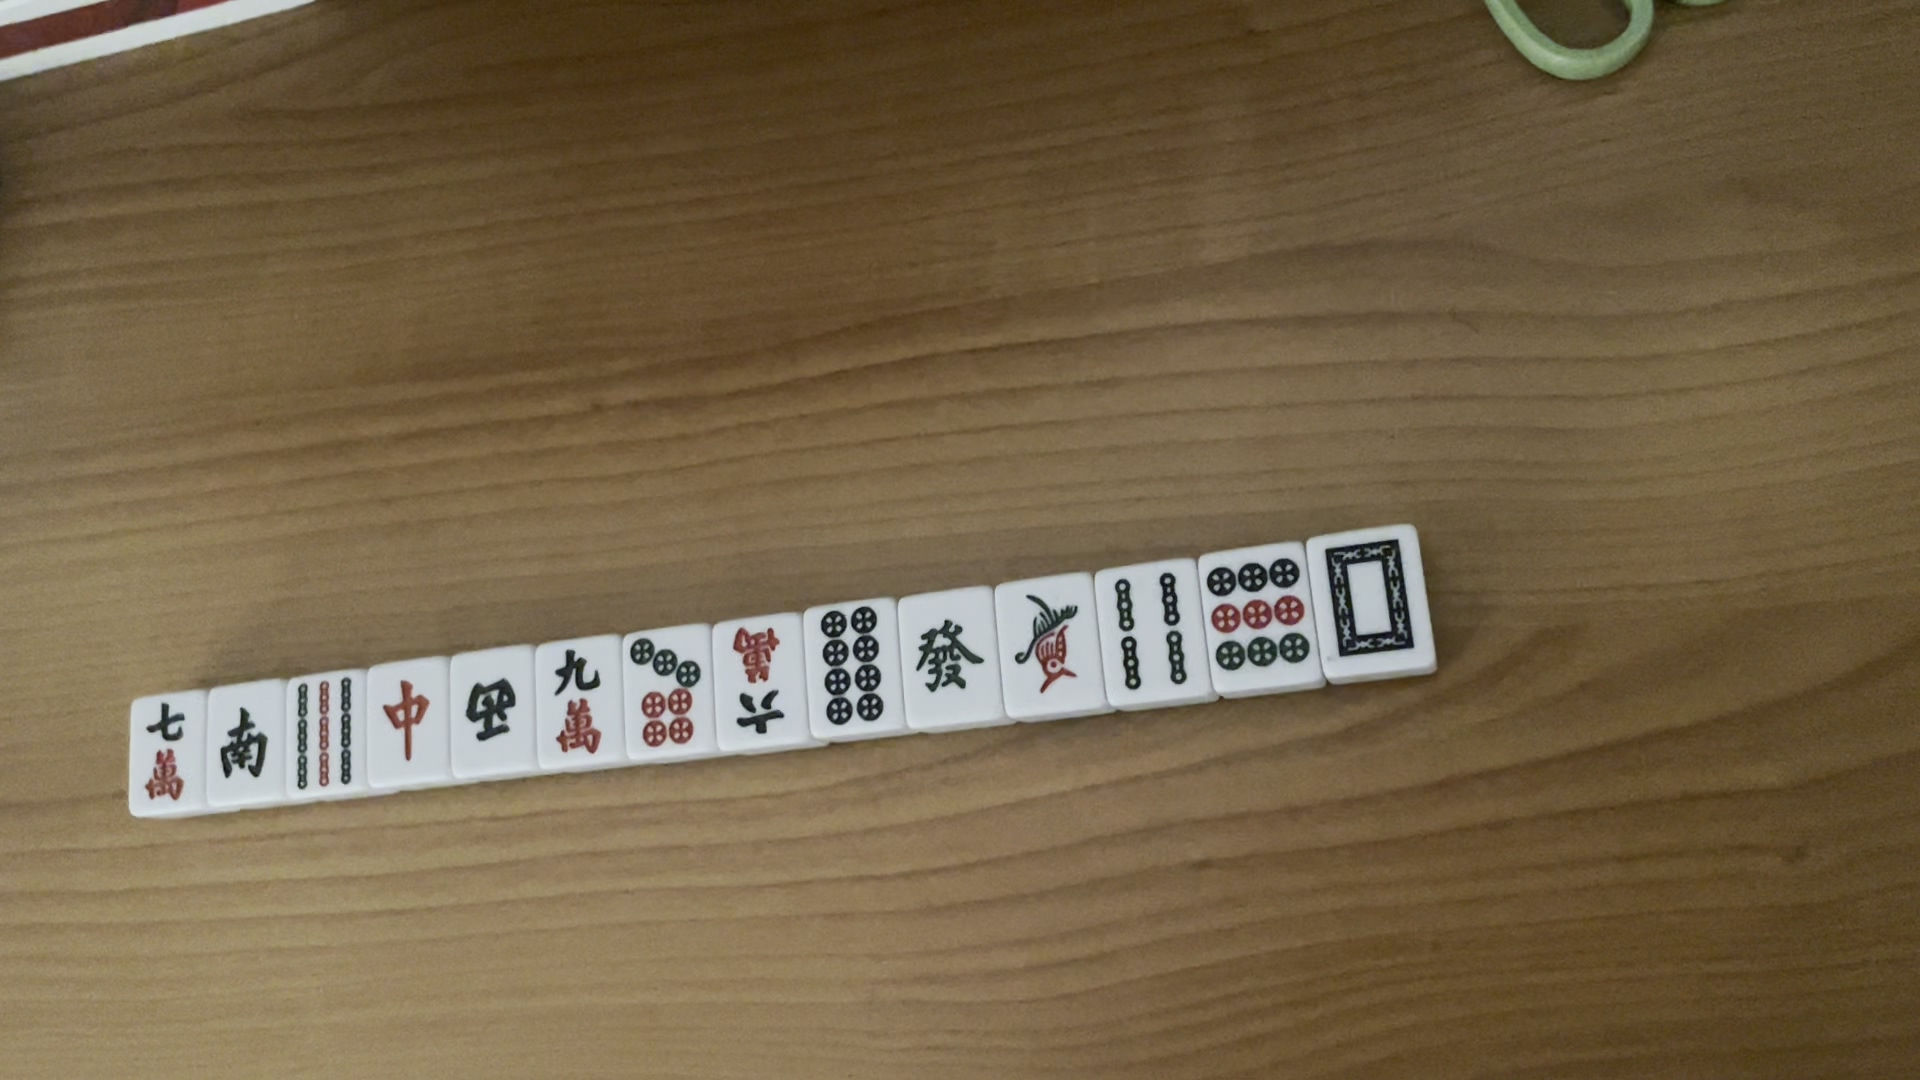b-1: (1000, 585, 1089, 698)
b-4: (1106, 568, 1196, 698)
b-9: (287, 680, 360, 793)
c-6: (727, 621, 789, 738)
c-7: (136, 702, 193, 804)
c-9: (545, 647, 611, 760)
d-7: (629, 636, 699, 753)
d-8: (815, 601, 889, 733)
d-9: (1203, 553, 1313, 676)
honors-green: (905, 608, 996, 696)
honors-red: (376, 676, 436, 766)
honors-south: (214, 691, 284, 795)
honors-west: (462, 669, 520, 753)
honors-white: (1313, 533, 1433, 666)
